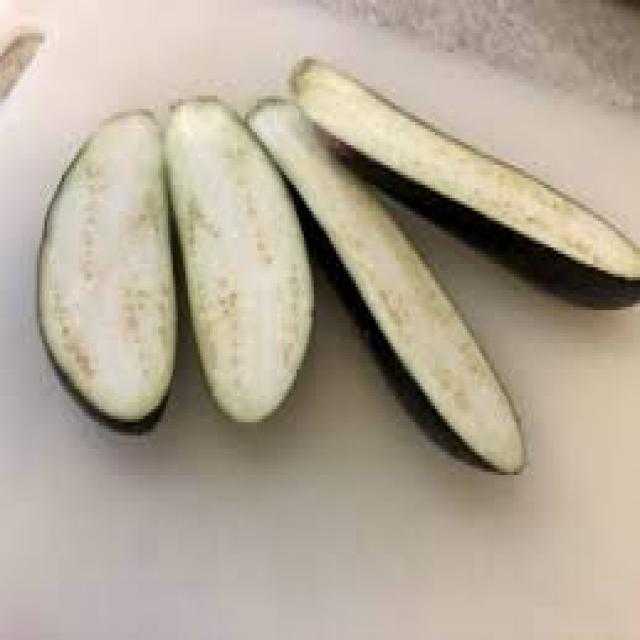organic waste: (242, 96, 524, 472), (32, 92, 314, 426), (294, 56, 638, 307)
